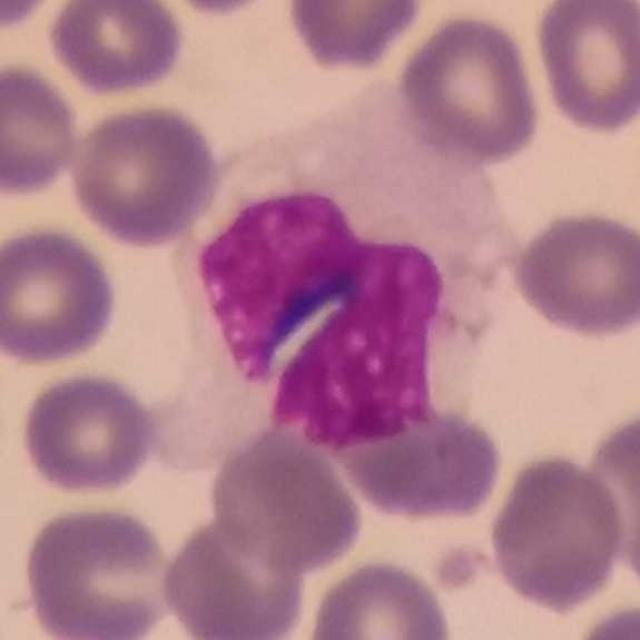mono: (143, 78, 525, 477)
